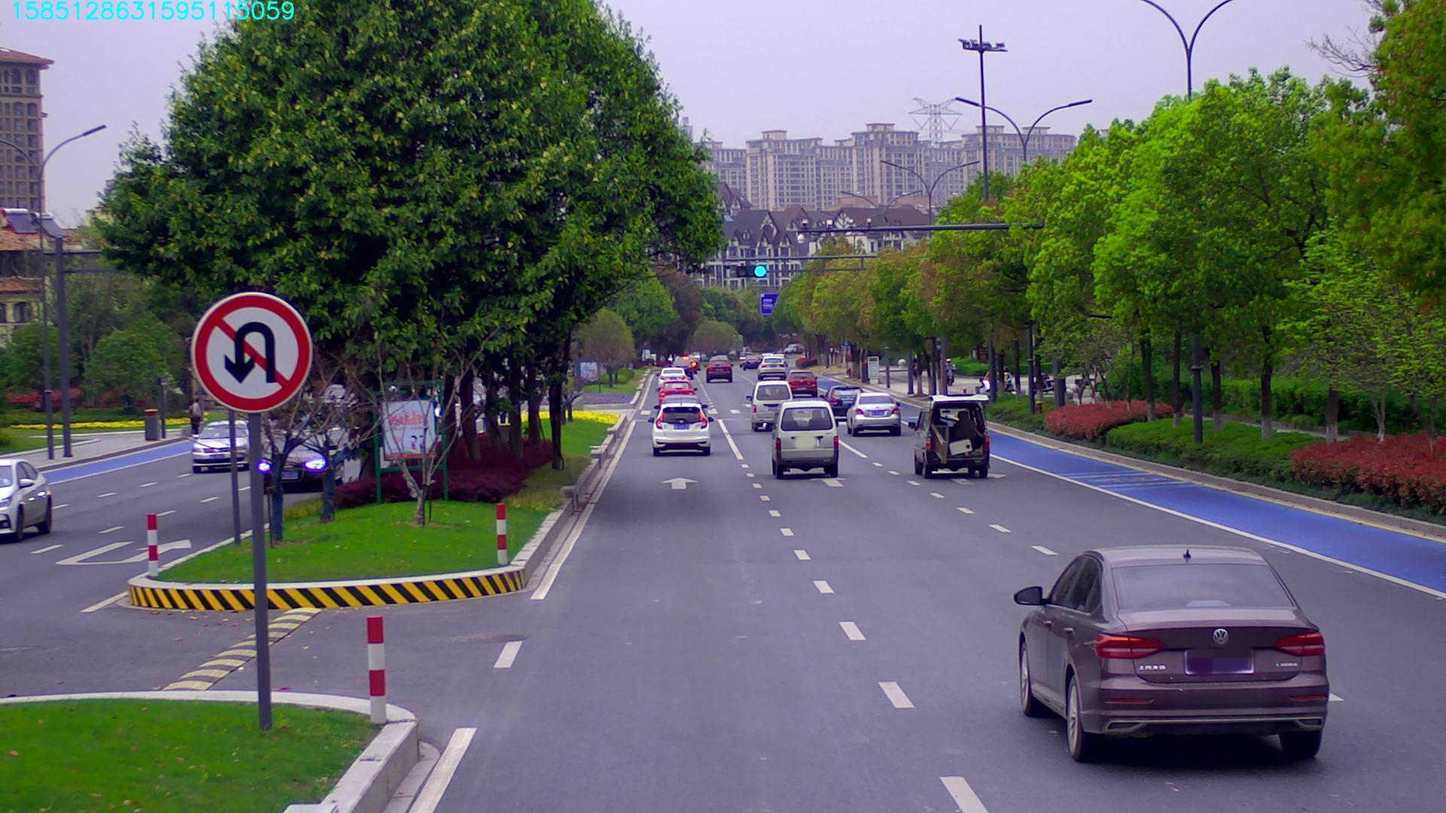green: (728, 264, 767, 276)
